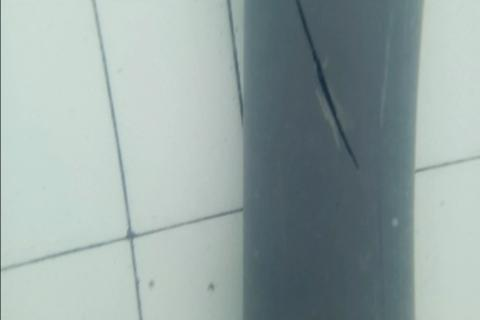keretakan: (293, 0, 361, 173)
